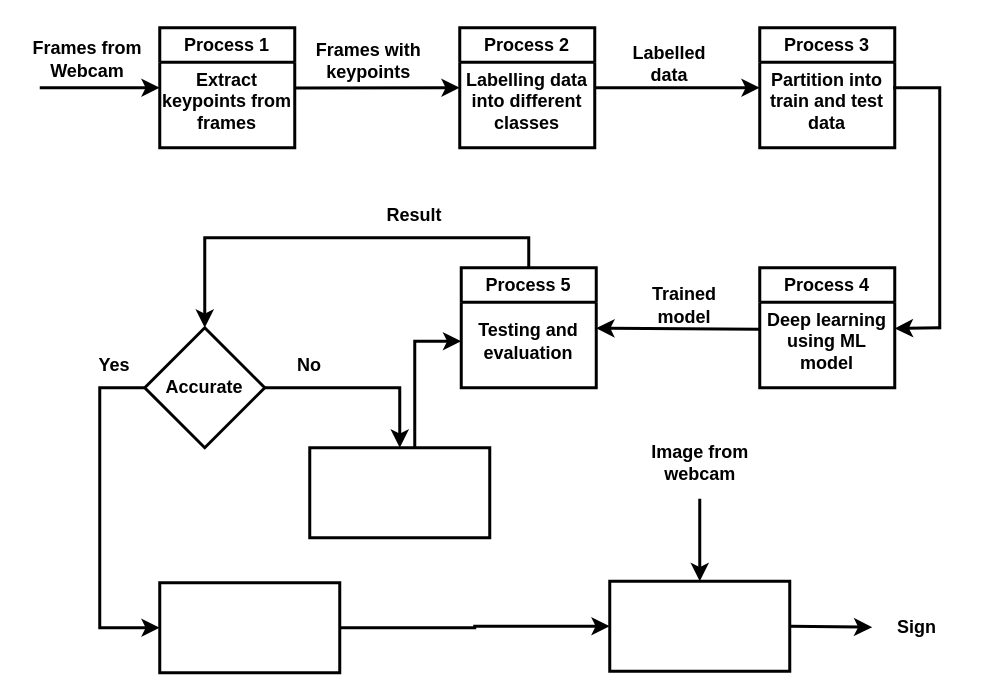
Some shapes in this 987 by 699 pixel diagram are drawn without their labels. The shapes that lost their labels are listed below. From the top down, each one's centre as x and y in pixels, then its label:
point (399, 492): Hyper Parameter tuning
point (249, 627): Sign Language Model
point (699, 625): Sign Language Recognition System
